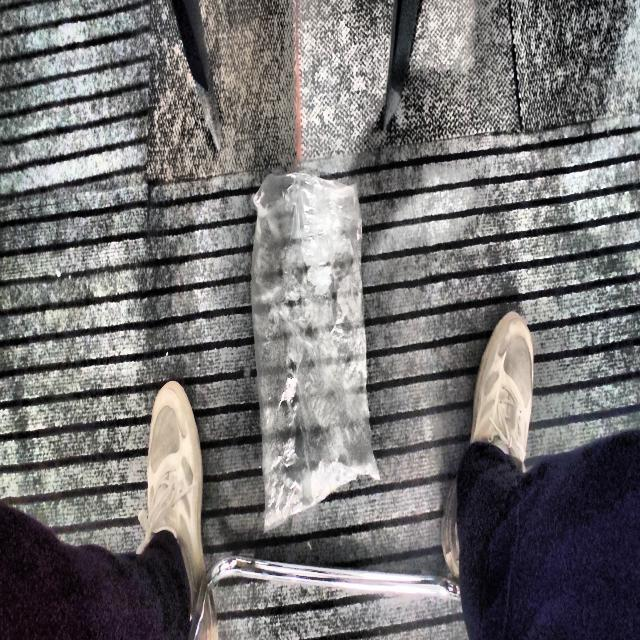plastic bag: (251, 172, 379, 530)
